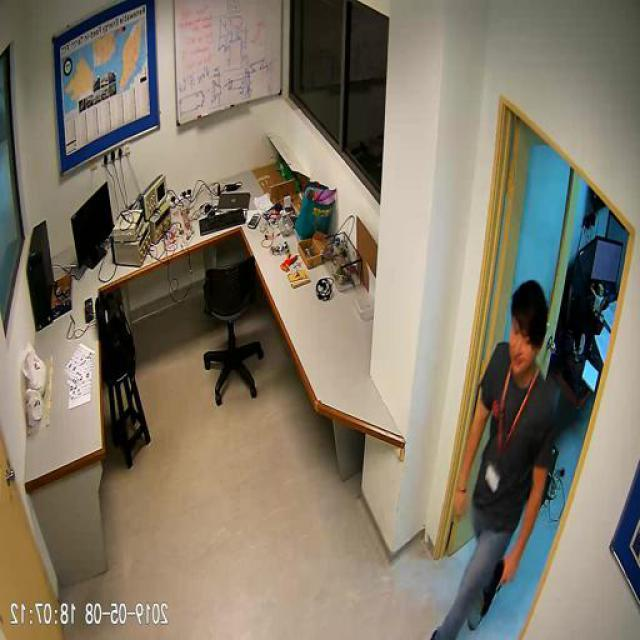Gun: (485, 556, 506, 614)
